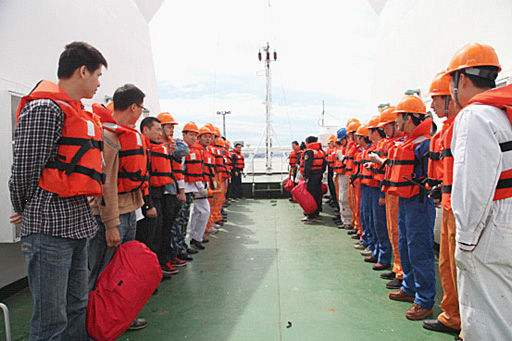reflective_clothes: (33, 82, 104, 203), (94, 106, 145, 196), (390, 124, 434, 197), (429, 114, 458, 189), (142, 135, 169, 196), (163, 135, 185, 191), (183, 138, 206, 190), (372, 138, 388, 189), (301, 143, 323, 175), (357, 143, 372, 188), (344, 141, 359, 182), (202, 145, 216, 188), (233, 150, 247, 175), (289, 149, 299, 167)
